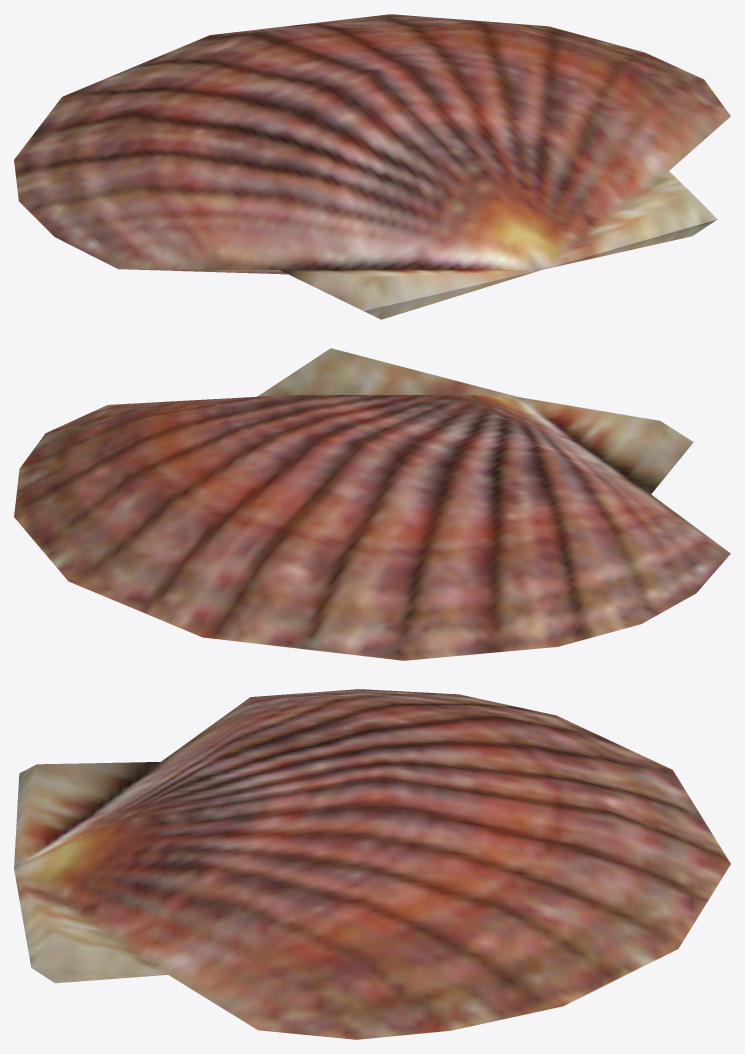
The model's file is SeaShell-01_LOD0_newsmall.glb.
The picture shows the model from 3 angles, top to bottom: view 1: azimuth 30°, elevation 25°; view 2: azimuth 150°, elevation 25°; view 3: azimuth 270°, elevation 25°; orthographic projection. The views are drawn at different scales.
Parts seen in each view (by area): view 1: SeaShell-01_high; view 2: SeaShell-01_high; view 3: SeaShell-01_high.
Boxes of the visible parts, x1,y1,x2,y2 form: SeaShell-01_high: (14, 14, 730, 319); SeaShell-01_high: (14, 348, 730, 660); SeaShell-01_high: (14, 689, 730, 1039).
Size of the model in its own units: 0.1144 by 0.0263 by 0.0989.
Materials: 1 (1 with a texture image).
